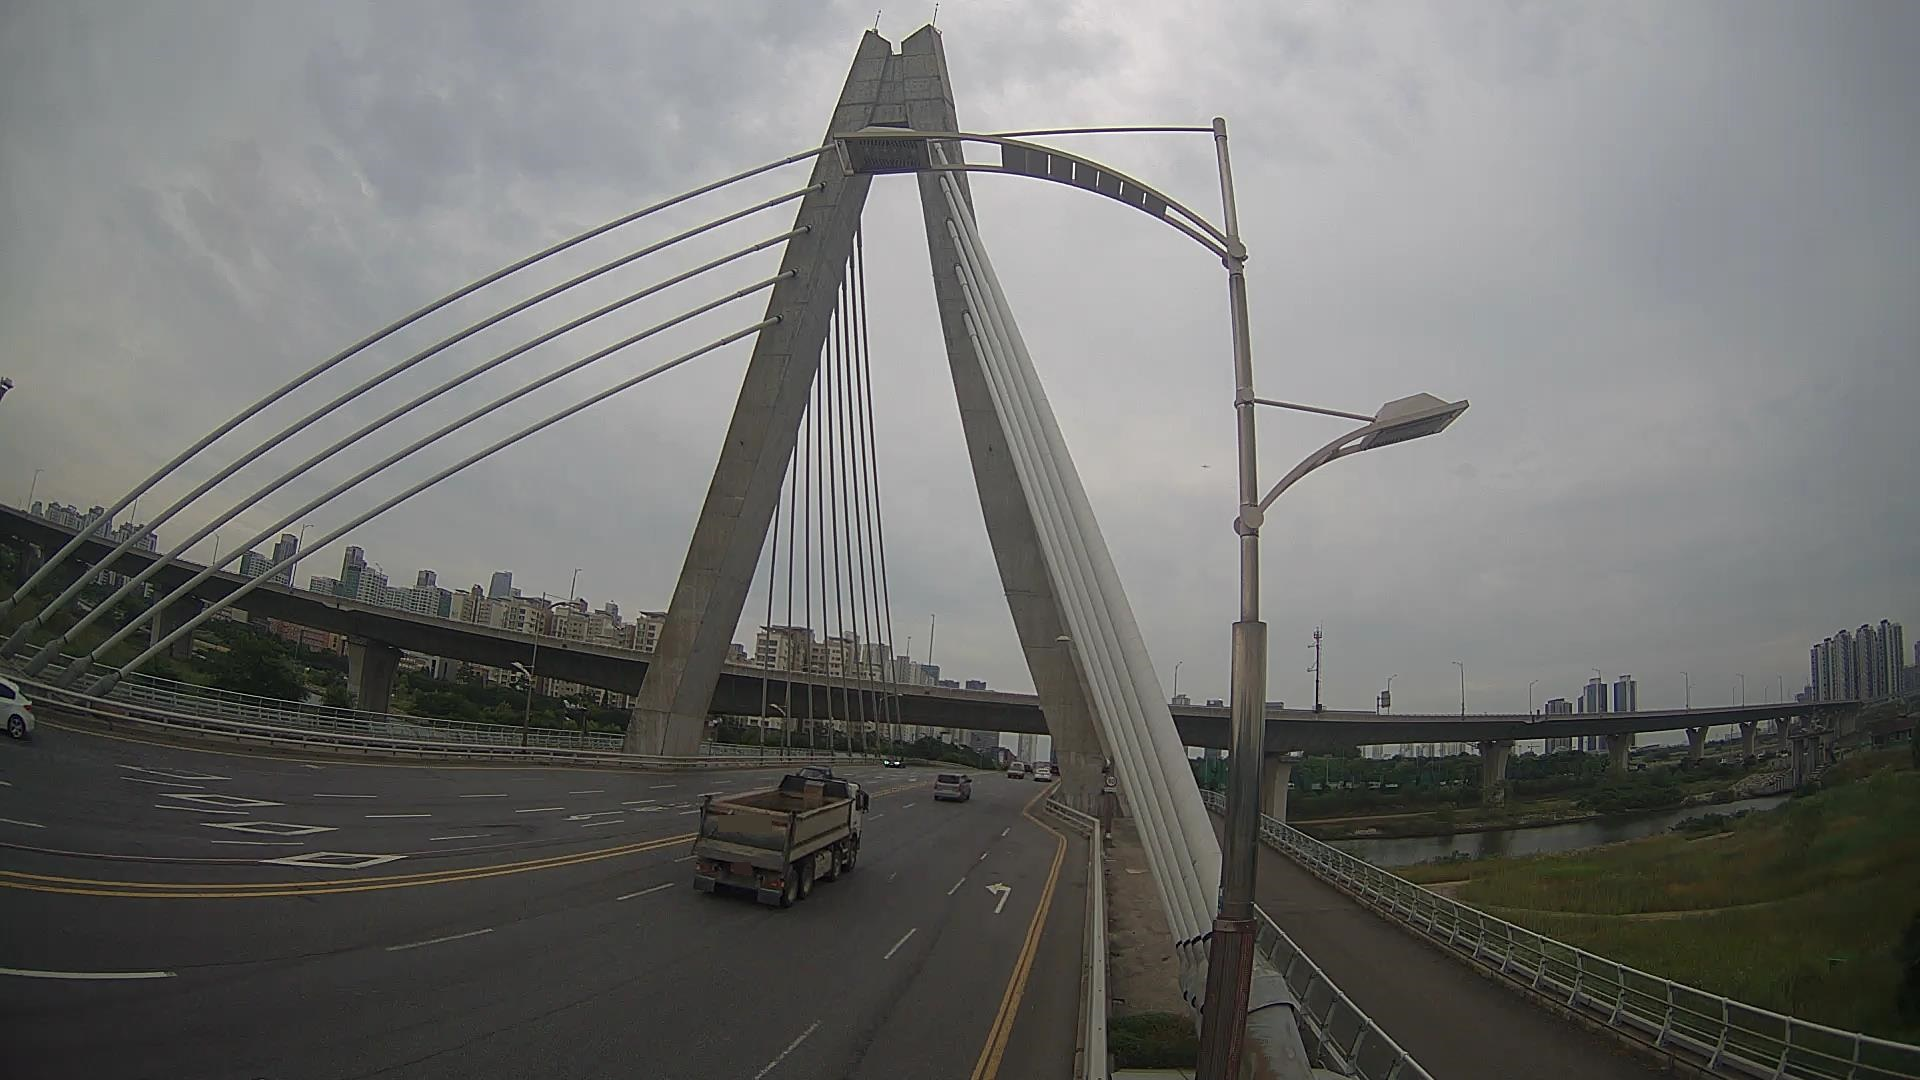정상차량: (691, 775, 869, 907)
